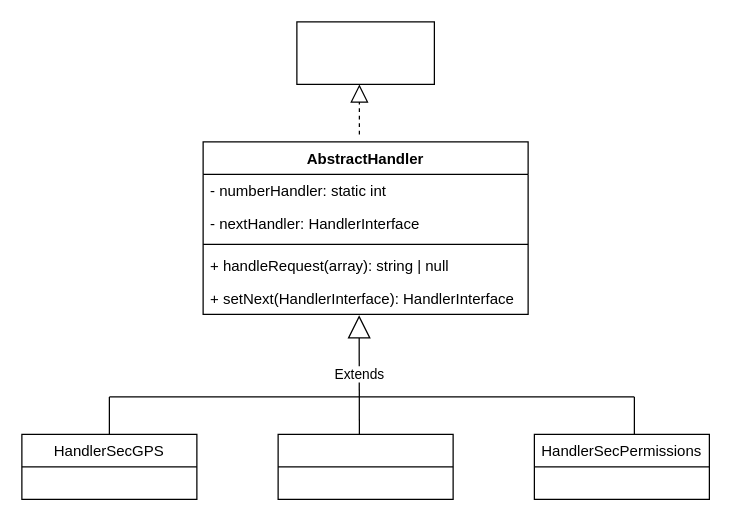
This 731x521 diagram has some shape labels left out. Each missing label, with the centre of its shape:
"HandlerSecLogPass" belongs at (365,466).
"«interface» HandlerInterface" belongs at (365,52).
